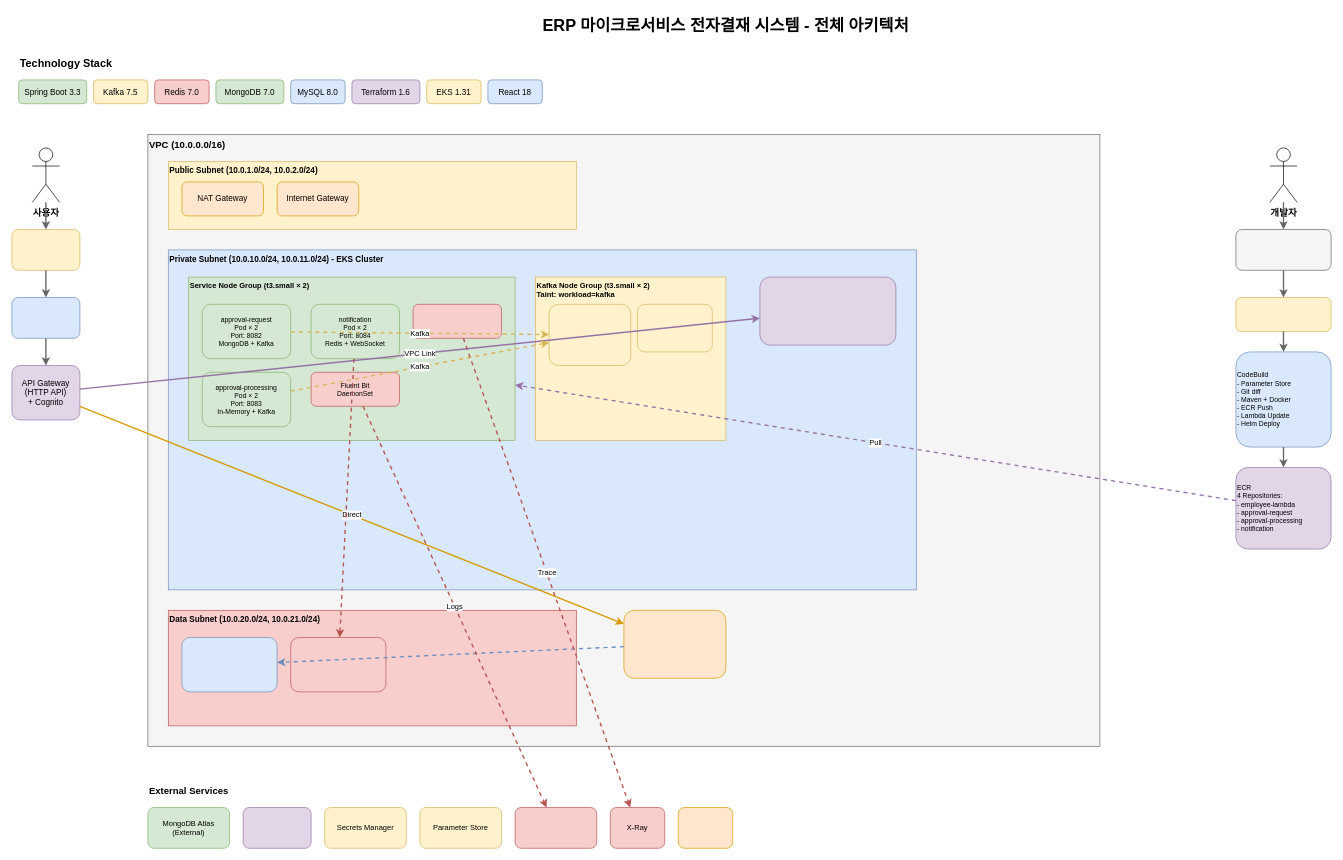
Image size: 1343x860. Some labels were removed from this diagram. The shapes that lost their labels are listed below. From the top down, each one's centre as x and y in pixels, then its label:
At (x=45, y=249): "CloudFront (CDN)".
At (x=1283, y=249): "GitHub (Source Code)".
At (x=45, y=317): "S3 (React SPA)".
At (x=457, y=321): "X-Ray DaemonSet".
At (x=674, y=328): "zookeeper Pod × 2 Port: 2181".
At (x=827, y=310): "NLB (Network Load Balancer) Target Groups: 8082, 8083, 8084".
At (x=1283, y=314): "CodePipeline".
At (x=589, y=335): "kafka Pod × 2 Port: 9092 Topics: - approval-requests - approval-results".
At (x=229, y=664): "RDS MySQL 8.0 (db.t3.micro) Single-AZ".
At (x=338, y=664): "ElastiCache Redis 7.0 (cache.t3.micro)".
At (x=674, y=644): "Lambda employee-service Memory: 2048MB Timeout: 60s VPC: Private Subnet".
At (x=276, y=827): "Cognito User Pool".
At (x=555, y=827): "CloudWatch Logs".
At (x=705, y=827): "SNS (Email)".
